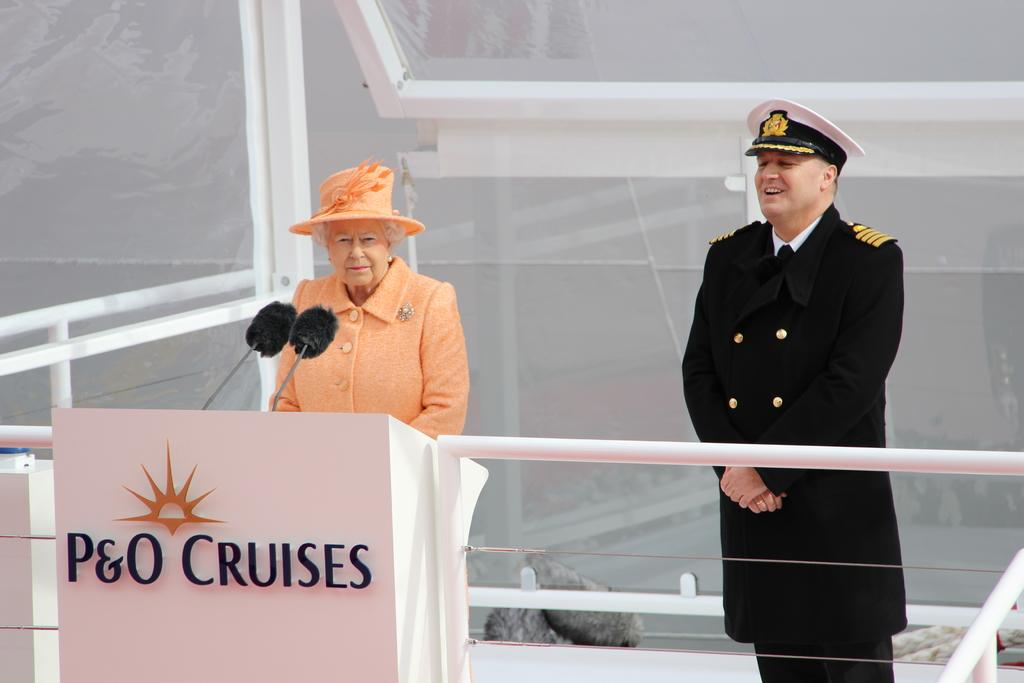Hat: (286, 153, 422, 237), (741, 96, 863, 170)
